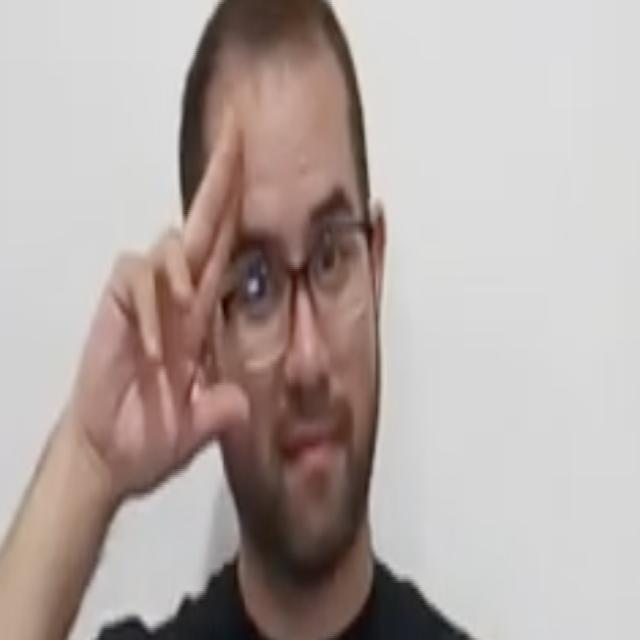hola: (80, 114, 261, 490)
